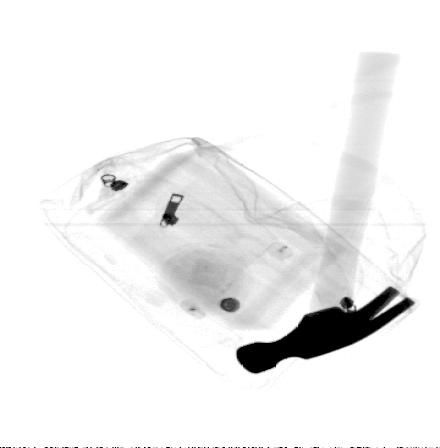Hammer: (234, 49, 420, 376)
